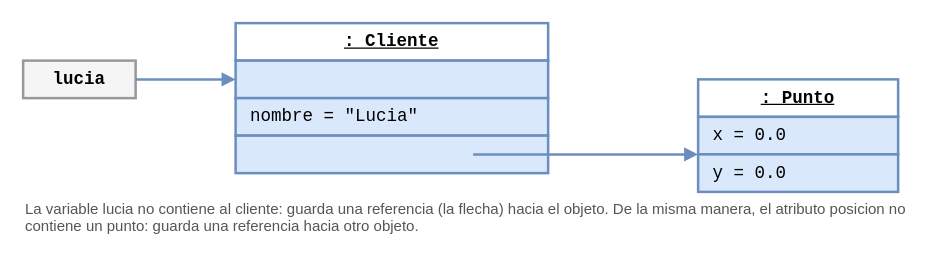
This 944x270 diagram has some shape labels left out. The centre of each missing label's shape, as x and y in pixels:
cedula = "1001": pixel 391 79
posicion: pixel 391 154
